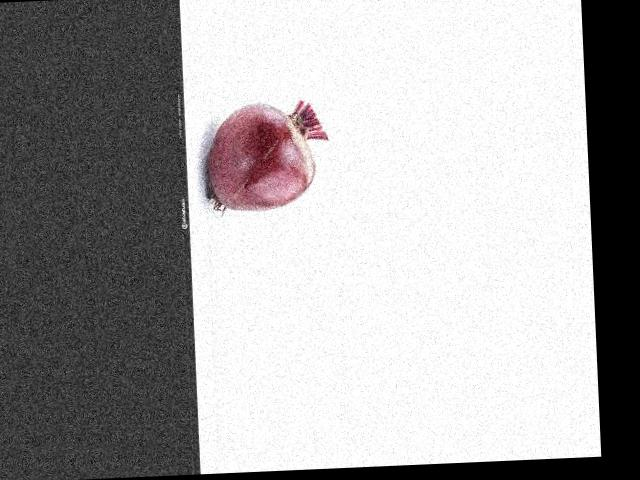beet: (204, 99, 330, 213)
